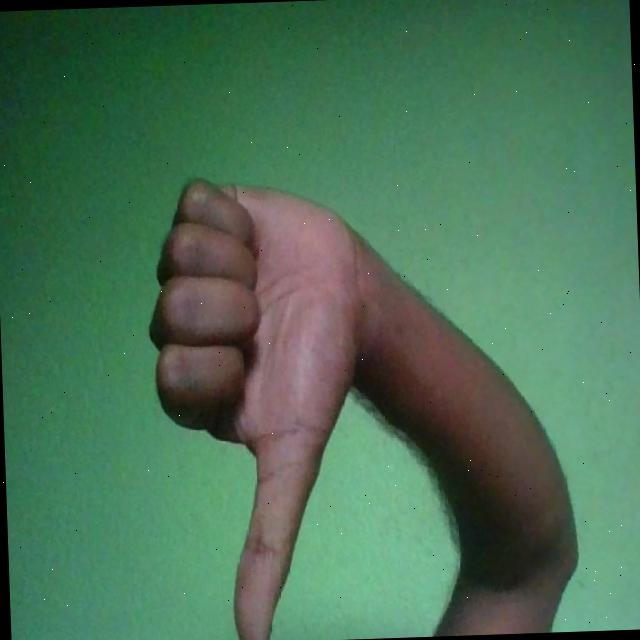Dislike: (145, 170, 383, 640)
